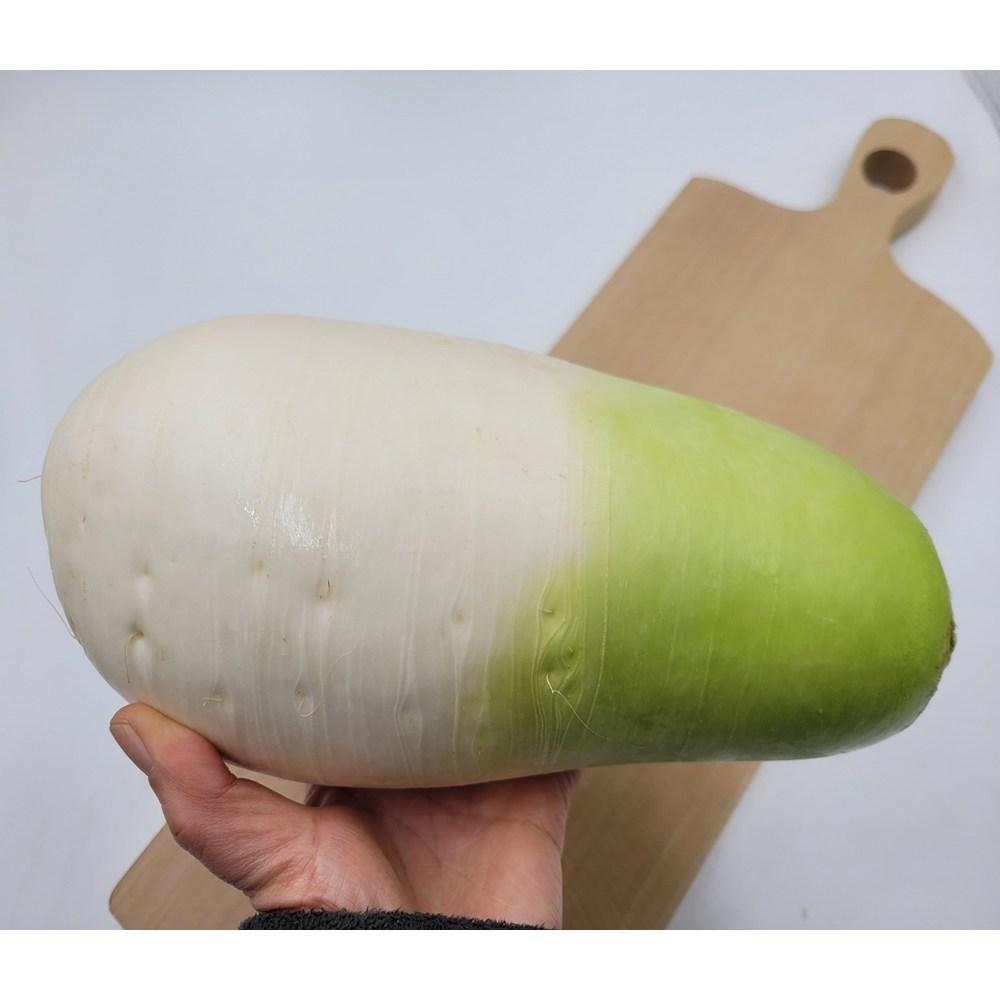radish: (297, 547, 1000, 1000)
